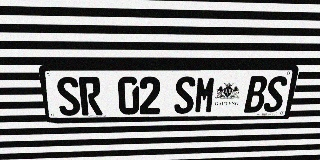0: (117, 76, 139, 115)
2: (139, 76, 160, 114)
B: (244, 76, 269, 112)
M: (194, 76, 217, 113)
R: (78, 77, 103, 115)
S: (55, 77, 81, 116), (263, 76, 288, 112), (174, 76, 196, 114)
